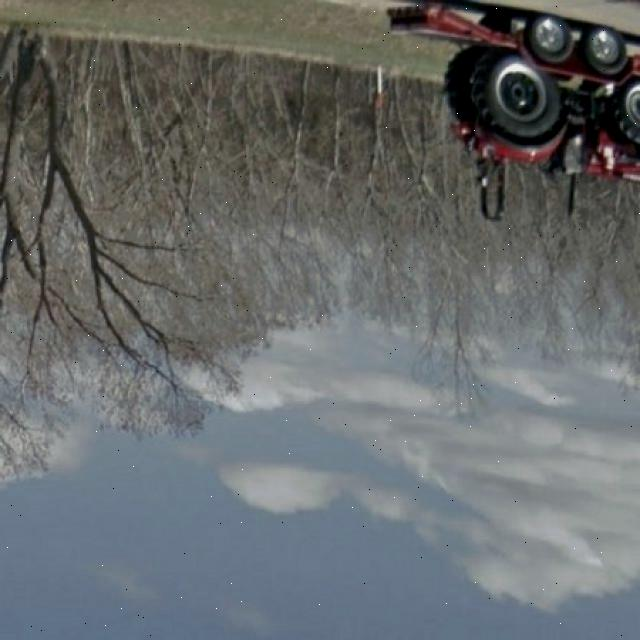Tratores - v5 YOLO V8L 2024-11-13: (444, 61, 640, 222)
